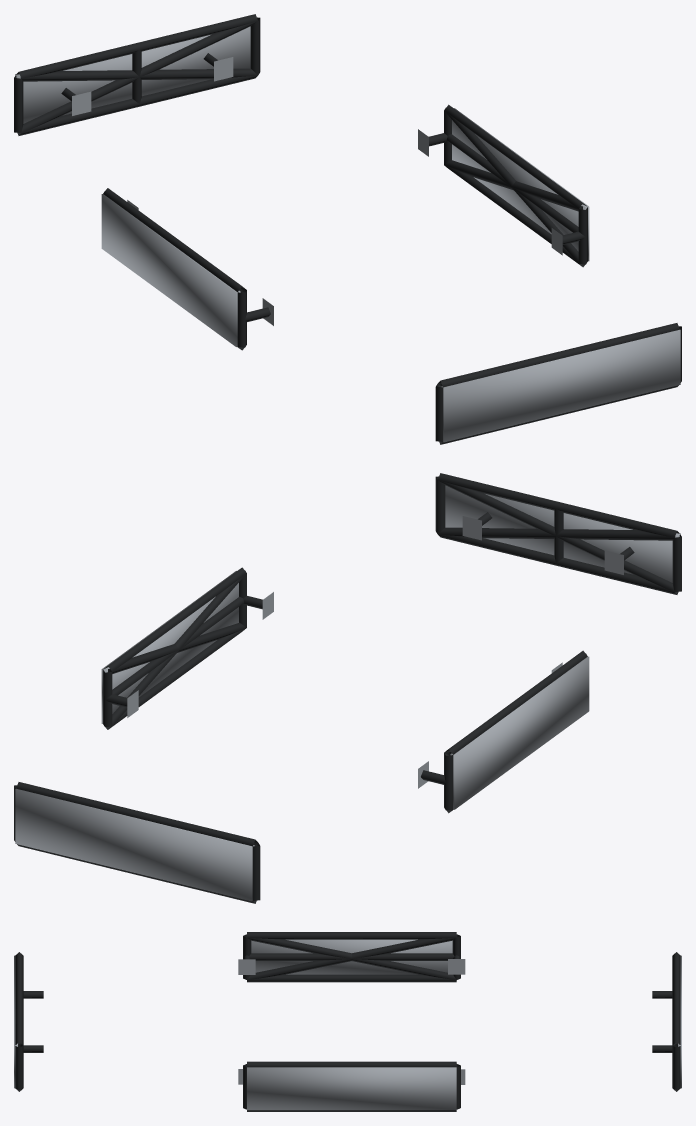
The model's file is kanaya_prisma_protecao.glb.
3 renders of one model, top to bottom at view 1: azimuth 30°, elevation 25°; view 2: azimuth 150°, elevation 25°; view 3: azimuth 270°, elevation 25°, orthographic. The views are drawn at different scales.
Visible parts, largest first — view 1: Protection_front_Level3_Details, Protection_left_Level3_Details, Protection_rear_Level1_Details, Protection_rear_Level3_Details, Protection_rear_Level2_Details, Protection_right_Level1_Details, Protection_right_Level2_Details, Protection_front_Level1_Details, Protection_right_Level3_Details, Protection_left_Level1_Details; view 2: Protection_rear_Level3_Details, Protection_left_Level3_Details, Protection_front_Level1_Details, Protection_front_Level3_Details, Protection_front_Level2_Details, Protection_right_Level1_Details, Protection_right_Level2_Details, Protection_rear_Level1_Details, Protection_right_Level3_Details, Protection_left_Level1_Details; view 3: Protection_right_Level3_Details, Protection_left_Level1_Details, Protection_left_Level2_Details, Protection_left_Level3_Details, Protection_right_Level1_Details, Protection_rear_Level1_Details, Protection_front_Level1_Details.
Part boxes in pixels (x1,y1,x2,y2): Protection_front_Level3_Details: (441,329,680,442); Protection_left_Level3_Details: (101,194,240,346); Protection_rear_Level1_Details: (14,14,260,135); Protection_rear_Level3_Details: (15,26,250,123); Protection_rear_Level2_Details: (16,21,257,134); Protection_right_Level1_Details: (418,104,587,267); Protection_right_Level2_Details: (444,111,586,266); Protection_front_Level1_Details: (435,323,681,444); Protection_right_Level3_Details: (452,108,589,261); Protection_left_Level1_Details: (103,188,273,350); Protection_rear_Level3_Details: (15,788,254,901); Protection_left_Level3_Details: (450,656,589,809); Protection_front_Level1_Details: (435,473,681,594); Protection_front_Level3_Details: (445,485,680,582); Protection_front_Level2_Details: (438,480,679,593); Protection_right_Level1_Details: (103,567,273,729); Protection_right_Level2_Details: (104,573,246,729); Protection_rear_Level1_Details: (14,782,260,903); Protection_right_Level3_Details: (101,571,238,723); Protection_left_Level1_Details: (418,650,587,813); Protection_right_Level3_Details: (247,1067,456,1110); Protection_left_Level1_Details: (238,932,465,982); Protection_left_Level2_Details: (246,935,457,980); Protection_left_Level3_Details: (251,939,452,974); Protection_right_Level1_Details: (238,1061,465,1111); Protection_rear_Level1_Details: (652,952,680,1091); Protection_front_Level1_Details: (15,952,43,1091).
Bounding box in the file's own units: 2.03 × 0.354 × 4.27.
Materials: 1 (1 with a texture image).
